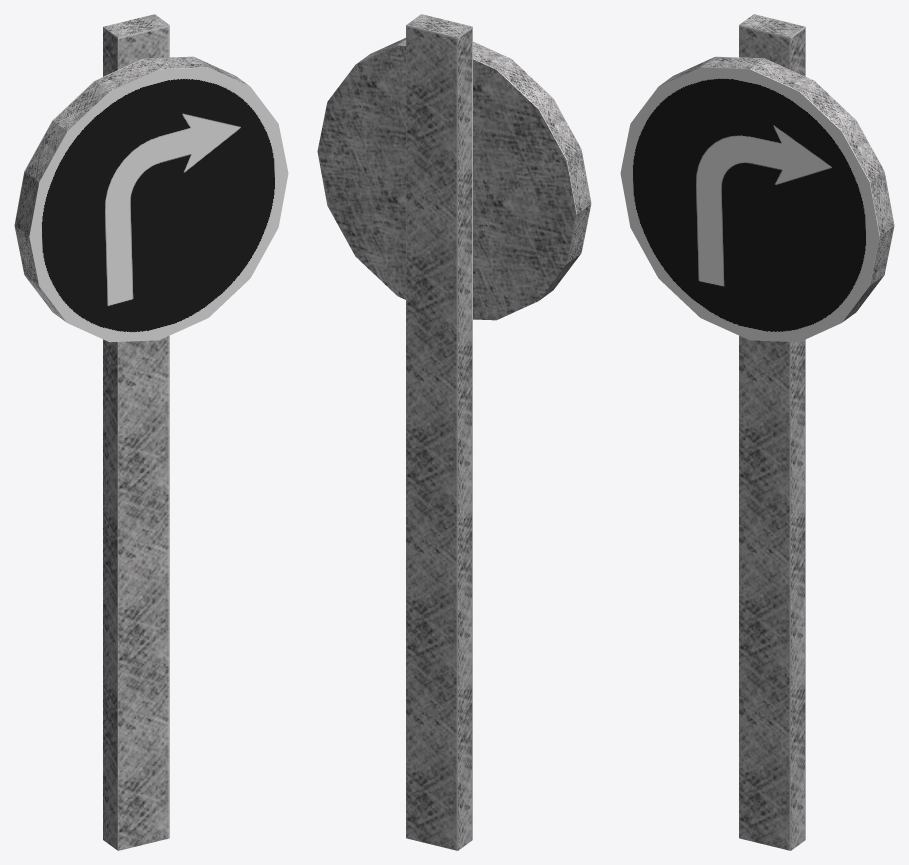
Rendered from RightTurnBlackRound.fbx.
3 renders of one model, left to right at view 1: azimuth 30°, elevation 25°; view 2: azimuth 150°, elevation 25°; view 3: azimuth 330°, elevation 25°, orthographic.
Visible parts, largest first — view 1: Senyal Obligatori gir R; view 2: Senyal Obligatori gir R; view 3: Senyal Obligatori gir R.
Boxes of the visible parts, bbox=[...] form: Senyal Obligatori gir R: bbox=[14, 14, 288, 850]; Senyal Obligatori gir R: bbox=[317, 14, 591, 850]; Senyal Obligatori gir R: bbox=[620, 14, 894, 850].
Size of the model in its own units: 100 by 300 by 20.
1 material, 1 textured.
